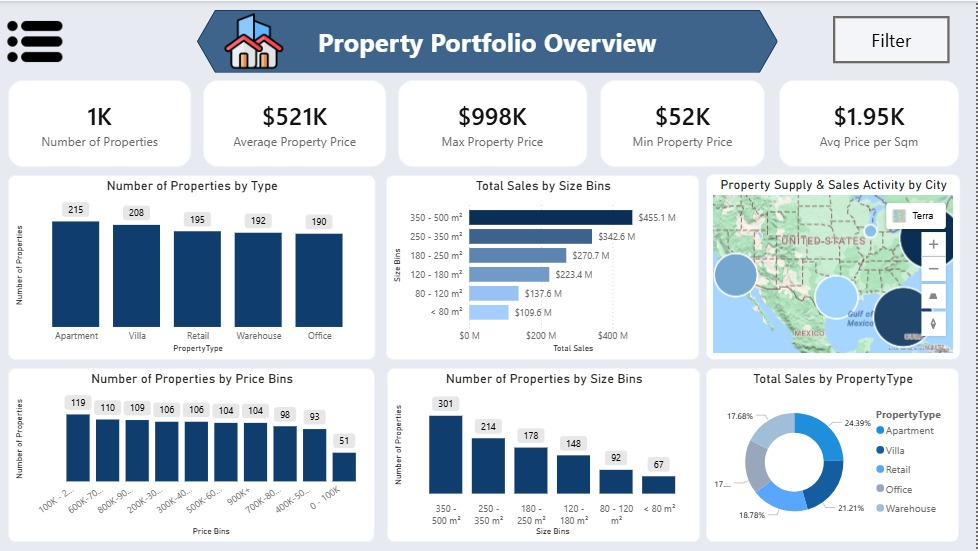

What the dashboard file says about the page in this screenshot:
{"tool":"powerbi","page":{"name":"Property Portfolio Overview","canvas":[1280,720],"ordinal":7},"visuals":[{"type":"shape","box":[259.8,11.5,760.3,82.1],"z":0,"group":"g1"},{"type":"cardVisual","fields":{"Data":["CountNonNull(Properties.PropertyID)"]},"box":[11.5,103.7,240.5,113.8],"z":0},{"type":"image","box":[276.4,14.6,115.2,76.3],"z":1000,"group":"g1"},{"type":"cardVisual","fields":{"Data":["Avg(Properties.PriceUSD)"]},"box":[266.4,103.7,240.5,113.8],"z":1000},{"type":"cardVisual","fields":{"Data":["Max(Properties.PriceUSD)"]},"box":[522.7,103.7,247.7,113.8],"z":2000},{"type":"cardVisual","fields":{"Data":["Min(Properties.PriceUSD)"]},"box":[786.2,103.7,216,113.8],"z":3000},{"type":"cardVisual","fields":{"Data":["Property_Measures.Avg Price per Sqm"]},"box":[1021,103.7,236.2,113.8],"z":4000},{"type":"donutChart","title":"Total Sales by PropertyType","fields":{"Category":["Properties.PropertyType"],"Y":["Sales_Measures.Total Sales"]},"box":[925.9,481,331.2,227.5],"z":5000},{"type":"clusteredColumnChart","title":"Number of Properties by Type","fields":{"Y":["CountNonNull(Properties.PropertyID)"],"Category":["Properties.PropertyType"]},"box":[11.5,227.5,481,241.9],"z":6000},{"type":"clusteredBarChart","fields":{"Category":["Properties.Size Bins"],"Y":["Sales_Measures.Total Sales"]},"box":[506.9,227.5,410.4,241.9],"z":7000},{"type":"clusteredColumnChart","fields":{"Category":["Properties.Price Bins"],"Y":["CountNonNull(Properties.PropertyID)"]},"box":[11.8,480.4,480.4,228.5],"z":8000},{"type":"clusteredColumnChart","fields":{"Y":["CountNonNull(Properties.PropertyID)"],"Category":["Properties.Size Bins"]},"box":[507.3,480.4,409.9,228.5],"z":9000},{"type":"azureMap","title":"Property Supply & Sales Activity by City","fields":{"Category":["Properties.City"],"Size":["CountNonNull(Properties.PropertyID)"]},"box":[925.9,226.1,332.6,243.4],"z":10000},{"type":"group","id":"g1","title":"Group 1","box":[259.8,11.5,760.3,82.1],"z":11000},{"type":"actionButton","box":[1091.5,20.2,152.6,61.9],"z":12000},{"type":"image","title":"Open Navigator","box":[0,16.4,93.3,72],"z":14000}]}

Visuals, with their boxes in screenshot pixels (x1, y1, x2, y2), scaled from the page's 1280x720 canvas onto the 978x551 screenshot:
shape: bbox=[199, 9, 779, 72]
cardVisual - CountNonNull(Properties.PropertyID): bbox=[9, 79, 193, 166]
image: bbox=[211, 11, 299, 70]
cardVisual - Avg(Properties.PriceUSD): bbox=[204, 79, 387, 166]
cardVisual - Max(Properties.PriceUSD): bbox=[399, 79, 589, 166]
cardVisual - Min(Properties.PriceUSD): bbox=[601, 79, 766, 166]
cardVisual - Property_Measures.Avg Price per Sqm: bbox=[780, 79, 961, 166]
"Total Sales by PropertyType" donutChart: bbox=[707, 368, 961, 542]
"Number of Properties by Type" clusteredColumnChart: bbox=[9, 174, 376, 359]
clusteredBarChart - Properties.Size Bins x Sales_Measures.Total Sales: bbox=[387, 174, 701, 359]
clusteredColumnChart - Properties.Price Bins x CountNonNull(Properties.PropertyID): bbox=[9, 368, 376, 543]
clusteredColumnChart - CountNonNull(Properties.PropertyID) x Properties.Size Bins: bbox=[388, 368, 701, 543]
"Property Supply & Sales Activity by City" azureMap: bbox=[707, 173, 962, 359]
"Group 1" group: bbox=[199, 9, 779, 72]
actionButton: bbox=[834, 15, 951, 63]
"Open Navigator" image: bbox=[0, 13, 71, 68]
